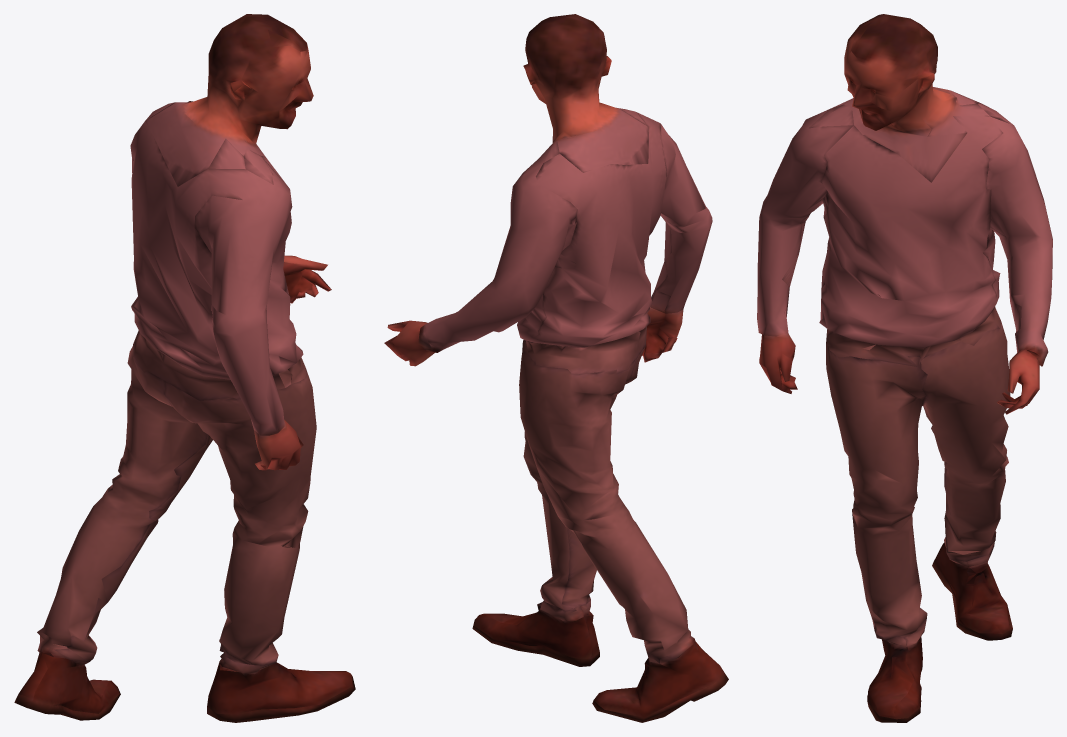
Rendered from car4.glb.
3 renders of one model, left to right at view 1: azimuth 30°, elevation 25°; view 2: azimuth 150°, elevation 25°; view 3: azimuth 270°, elevation 25°, orthographic. The views are drawn at different scales.
Visible parts, largest first — view 1: Desirefxme_GTP_CMan_Spg_Mark_20_Wk_Sd_Lsn_Bgr214; view 2: Desirefxme_GTP_CMan_Spg_Mark_20_Wk_Sd_Lsn_Bgr214; view 3: Desirefxme_GTP_CMan_Spg_Mark_20_Wk_Sd_Lsn_Bgr214.
Boxes of the visible parts, x1,y1,x2,y2 form: Desirefxme_GTP_CMan_Spg_Mark_20_Wk_Sd_Lsn_Bgr214: [14, 14, 355, 722]; Desirefxme_GTP_CMan_Spg_Mark_20_Wk_Sd_Lsn_Bgr214: [384, 14, 728, 722]; Desirefxme_GTP_CMan_Spg_Mark_20_Wk_Sd_Lsn_Bgr214: [757, 14, 1052, 722].
Size of the model in its own units: 0.9082 by 1.77 by 0.7097.
Materials: 1 (1 with a texture image).
